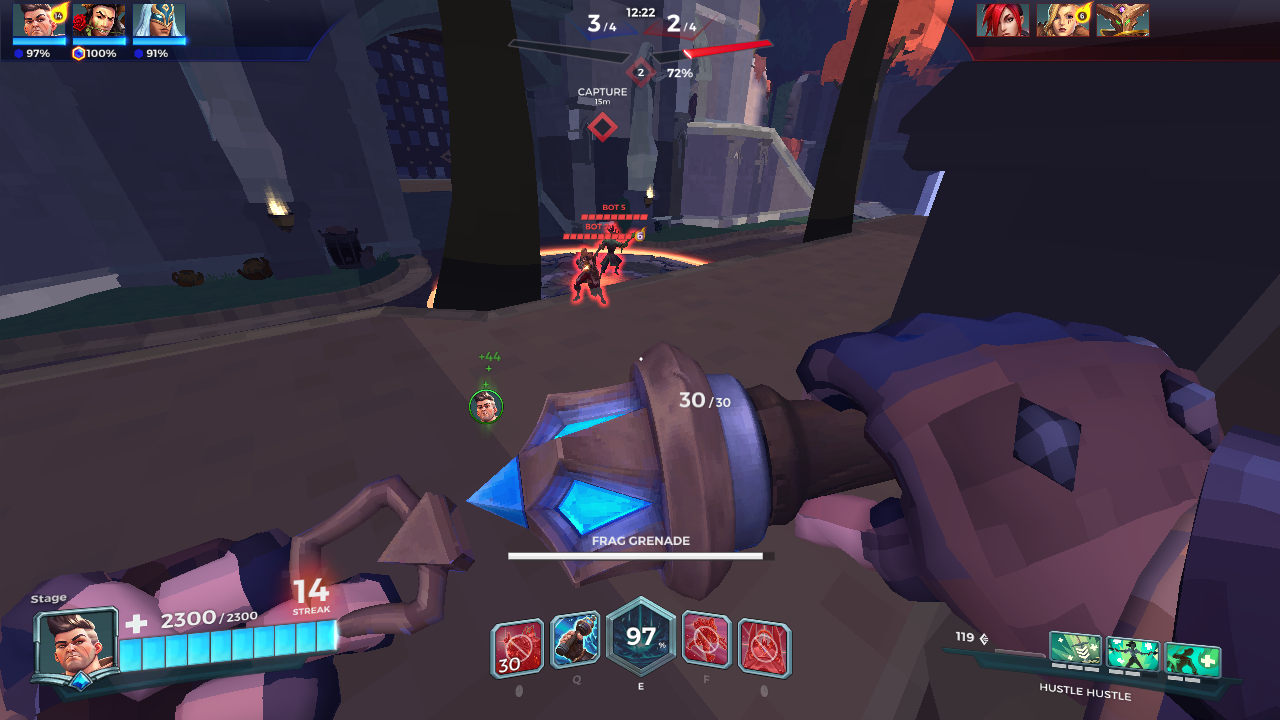model: (567, 246, 602, 302), (608, 221, 628, 279)
